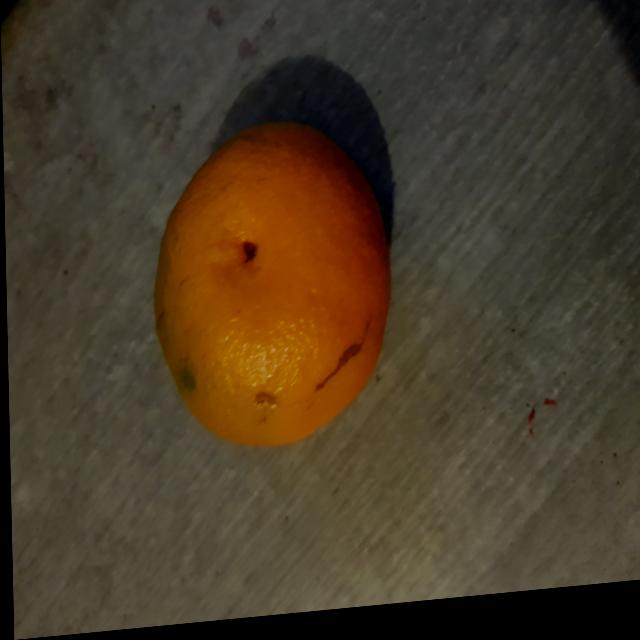Orange: (151, 128, 391, 456)
